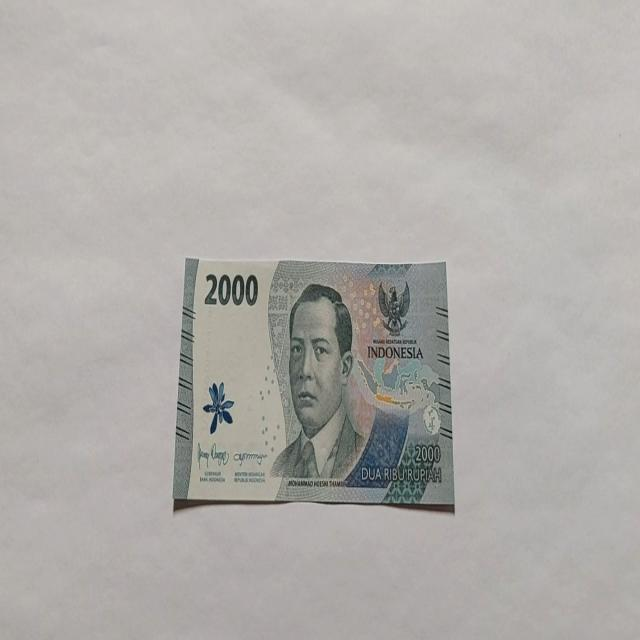dua ribu rupiah: (172, 255, 455, 512), (269, 282, 368, 486)
